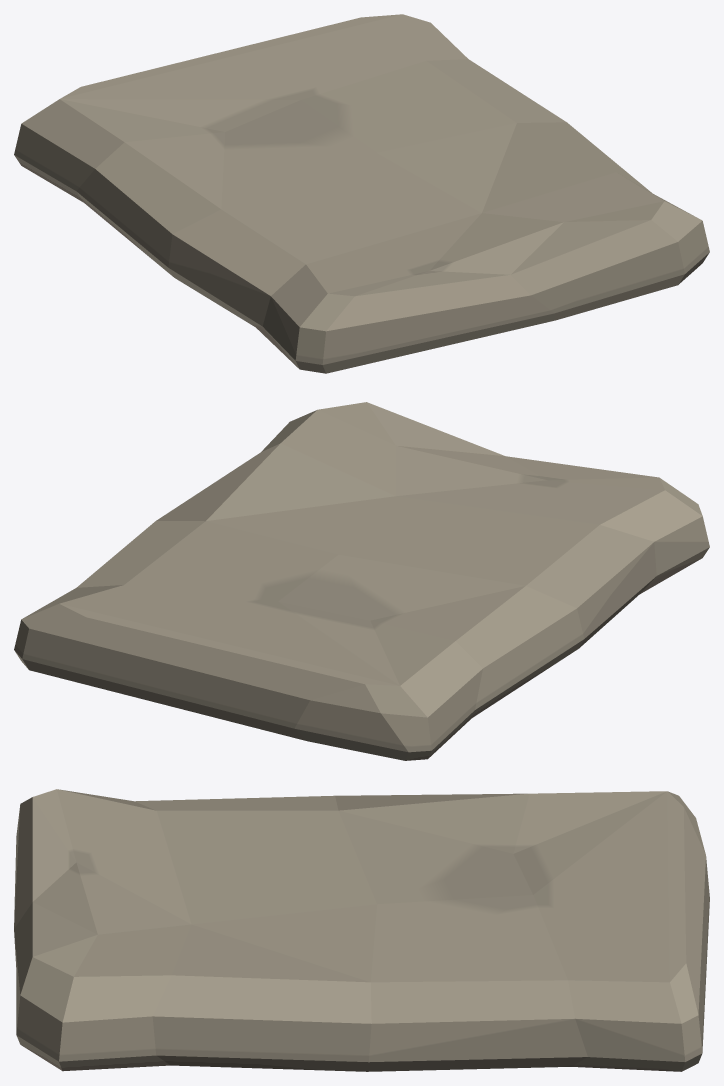
File: SM_Prop_Bed_Mattress_Big_01.glb
3 views of the same model, one above another, from view 1: azimuth 30°, elevation 25°; view 2: azimuth 150°, elevation 25°; view 3: azimuth 270°, elevation 25° (orthographic). The views are drawn at different scales.
Parts seen in each view (by area): view 1: SM_Prop_Bed_Mattress_Big_01; view 2: SM_Prop_Bed_Mattress_Big_01; view 3: SM_Prop_Bed_Mattress_Big_01.
Boxes of the visible parts, x1,y1,x2,y2 form: SM_Prop_Bed_Mattress_Big_01: [14, 14, 709, 373]; SM_Prop_Bed_Mattress_Big_01: [14, 402, 709, 760]; SM_Prop_Bed_Mattress_Big_01: [14, 789, 709, 1071].
Size of the model in its own units: 1.76 by 0.2867 by 2.21.
Materials: 1 (1 with a texture image).
